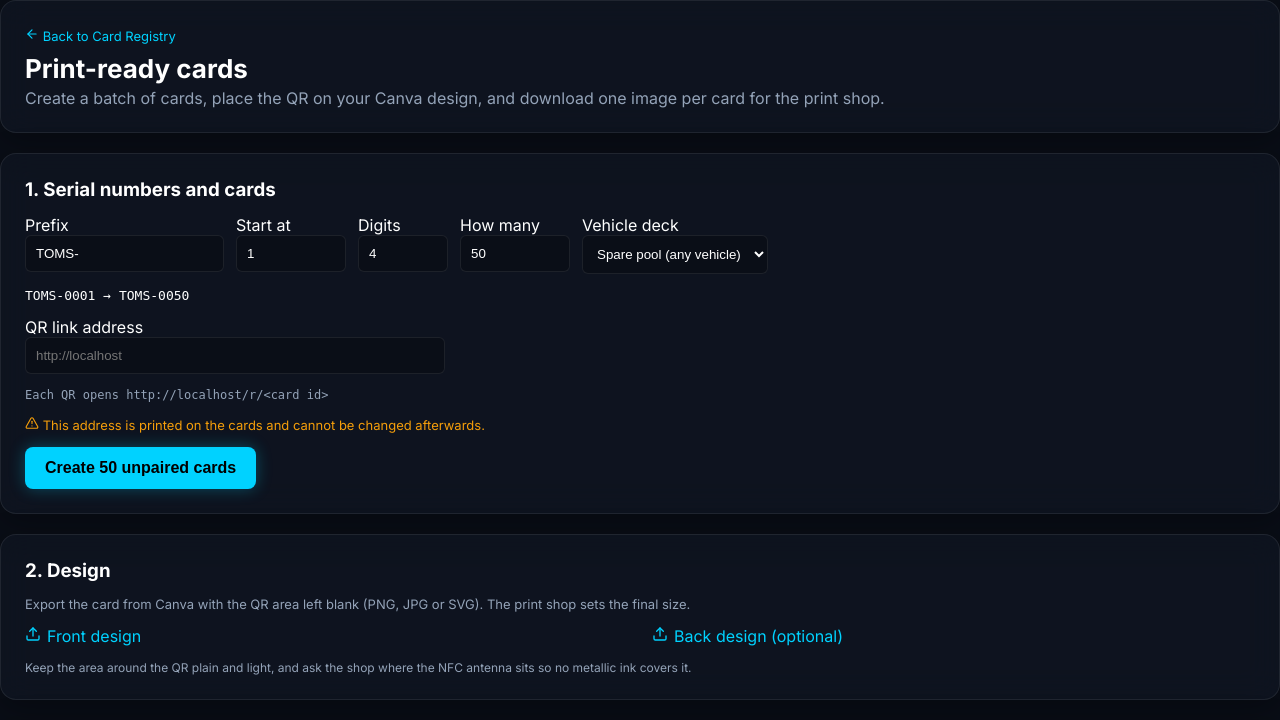
Test: CardDesigner › previews the first and last serial from the rule
Expected: the text with test id "serial-preview" reads "TOMS-0001 → TOMS-0050", [25,288,189,303]
Replace the text in the field labelled "Prefix" with "BUS7-": (124, 254) [25,235,224,272]
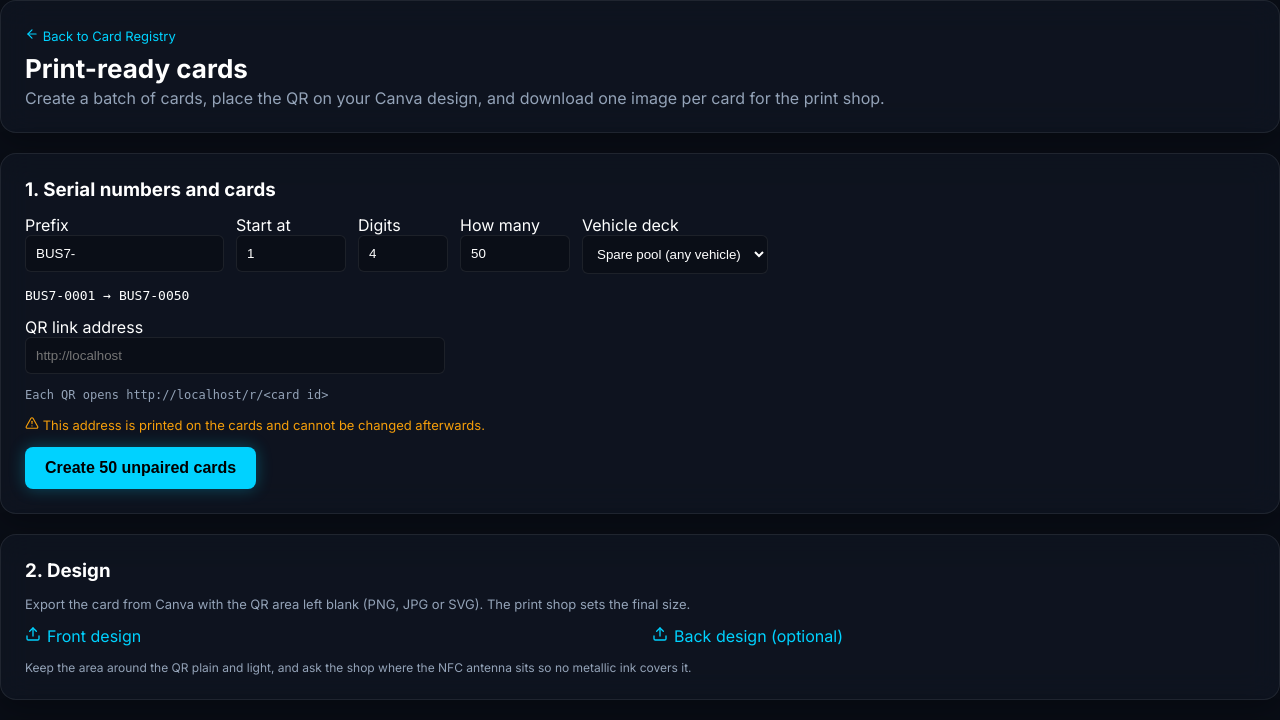
Replace the text in the number field labelled "Digits" with "3": (403, 254) [358,235,448,272]
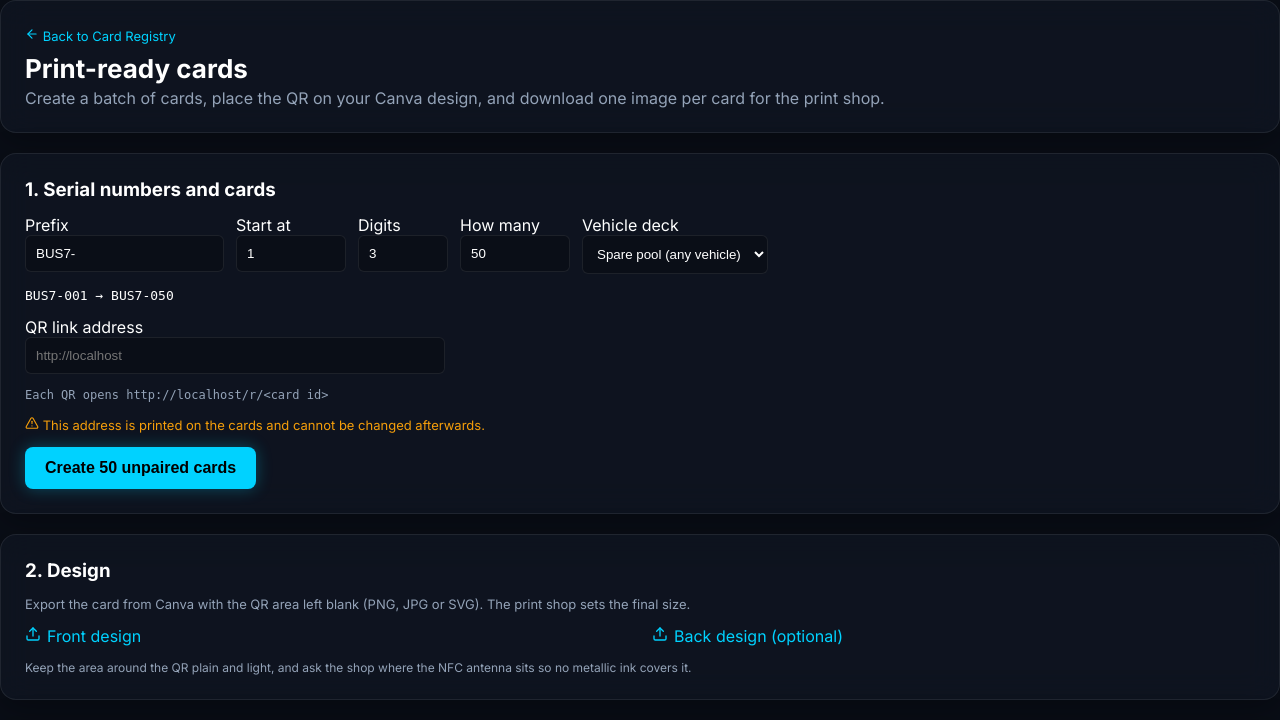
Replace the text in the number field labelled "How many" with "12": (515, 254) [460,235,570,272]
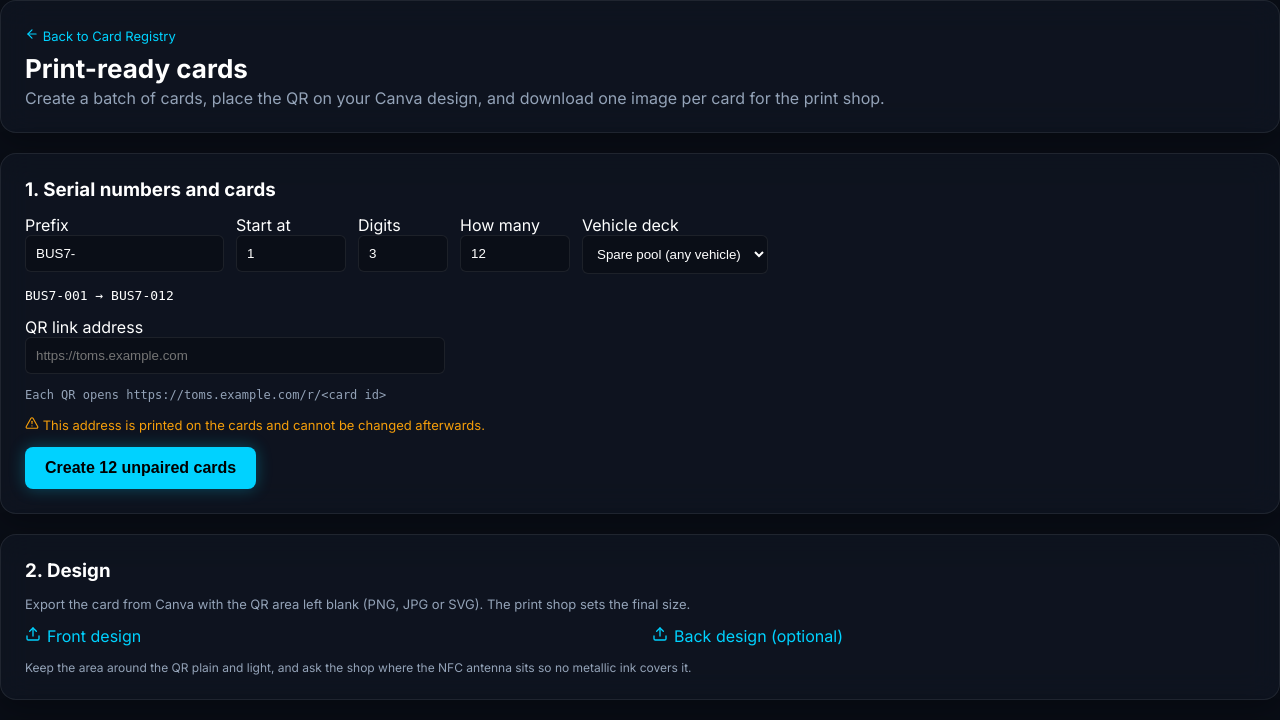
Result: the text with test id "serial-preview" reads "BUS7-001 → BUS7-012" at [25,288,174,303]
